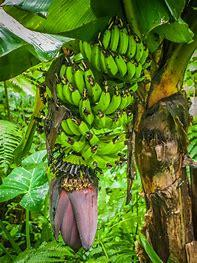banana: (46, 25, 156, 174), (35, 21, 159, 107), (37, 103, 137, 170)
